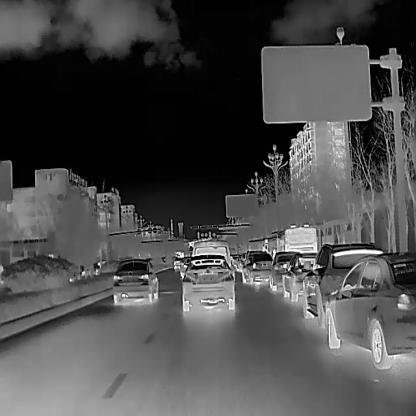car: (322, 252, 415, 373), (302, 242, 383, 327), (181, 254, 235, 310), (111, 257, 157, 301), (282, 252, 319, 302), (267, 221, 317, 249), (268, 250, 298, 291), (239, 251, 272, 282), (248, 237, 267, 251)
